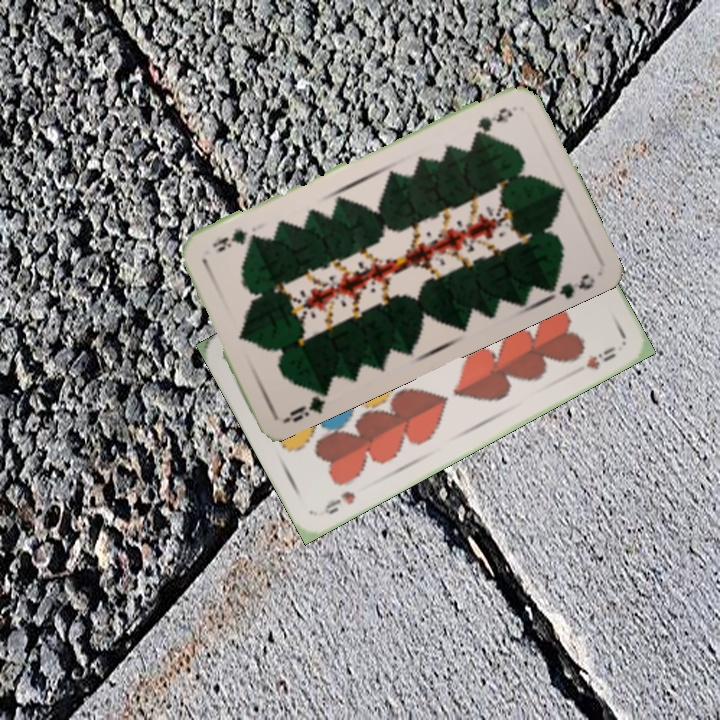G9: (280, 382, 332, 425), (470, 103, 516, 138)
H9: (320, 487, 358, 517)
